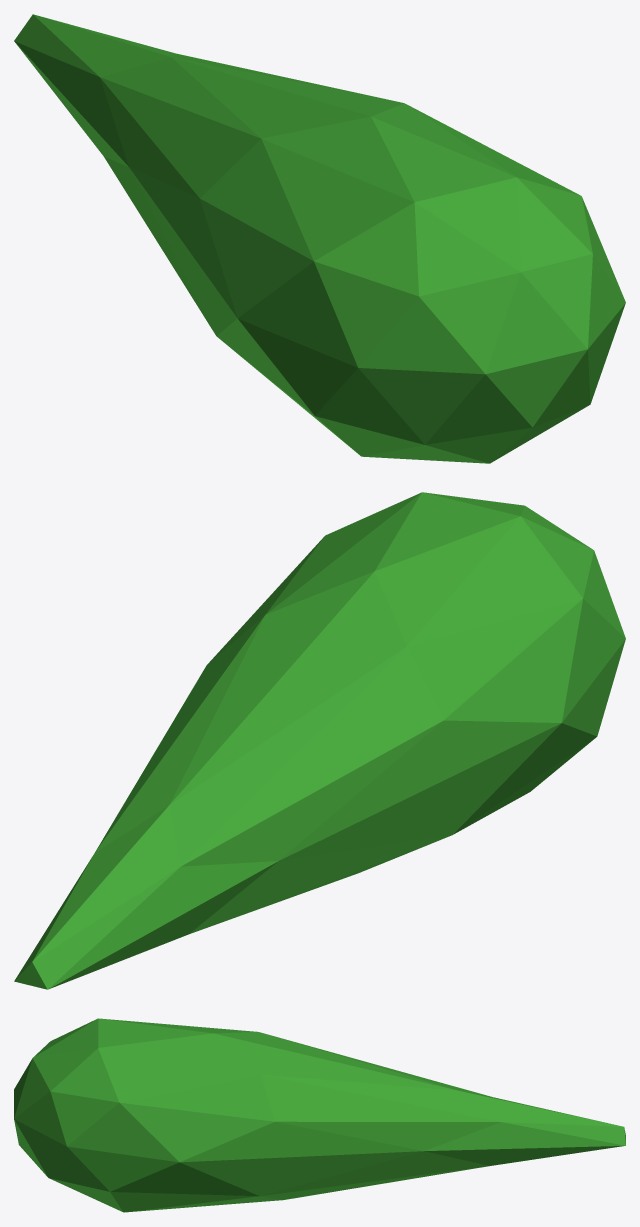
The model's file is dupa.fbx.
3 renders of one model, top to bottom at view 1: azimuth 30°, elevation 25°; view 2: azimuth 150°, elevation 25°; view 3: azimuth 270°, elevation 25°, orthographic. The views are drawn at different scales.
Parts seen in each view (by area): view 1: dupa; view 2: dupa; view 3: dupa.
Boxes of the visible parts, x1=… form: dupa: x1=14, y1=14, x2=625, y2=463; dupa: x1=14, y1=492, x2=625, y2=989; dupa: x1=14, y1=1018, x2=625, y2=1212.
Size of the model in its own units: 92.67 by 79.01 by 256.
